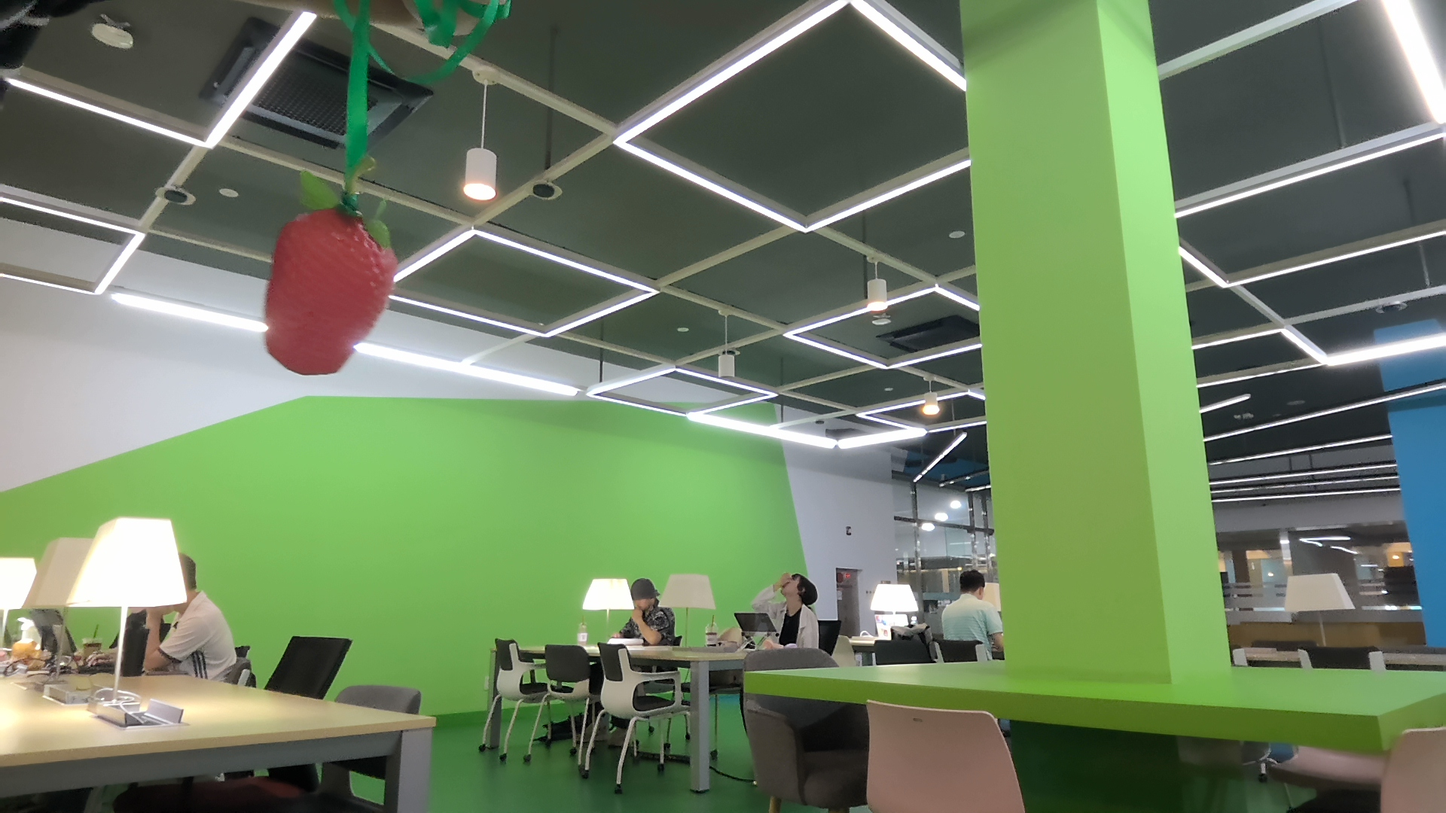strawberry: (245, 190, 419, 378)
